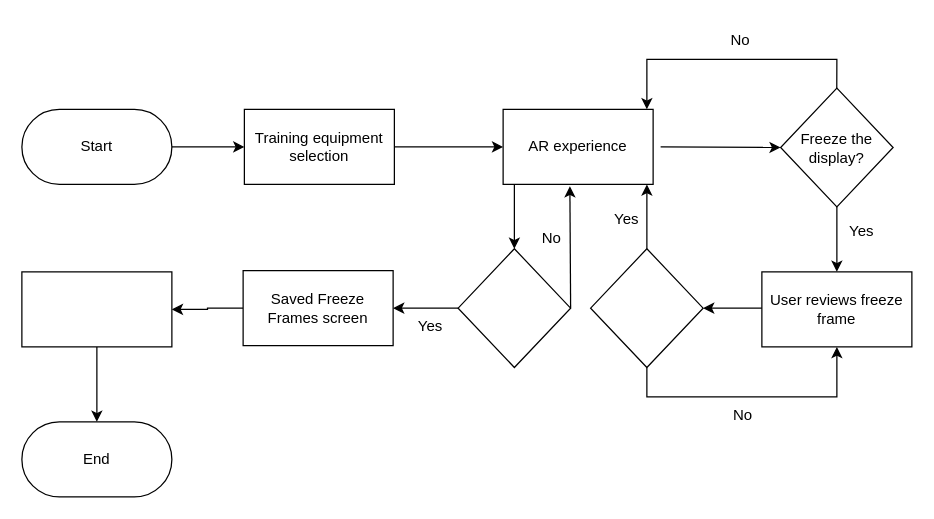
The diagram is 934 pixels wide and 519 high, and some of its shapes have lost their labels. The shapes that lost their labels are listed below. From the top down, each one's centre as x and y in pixels, then its label:
At point 96,309: "User exports chosen freeze frame to camera roll".
At point 514,308: "Review freeze frames?".
At point 646,308: "Thaw the display?".
